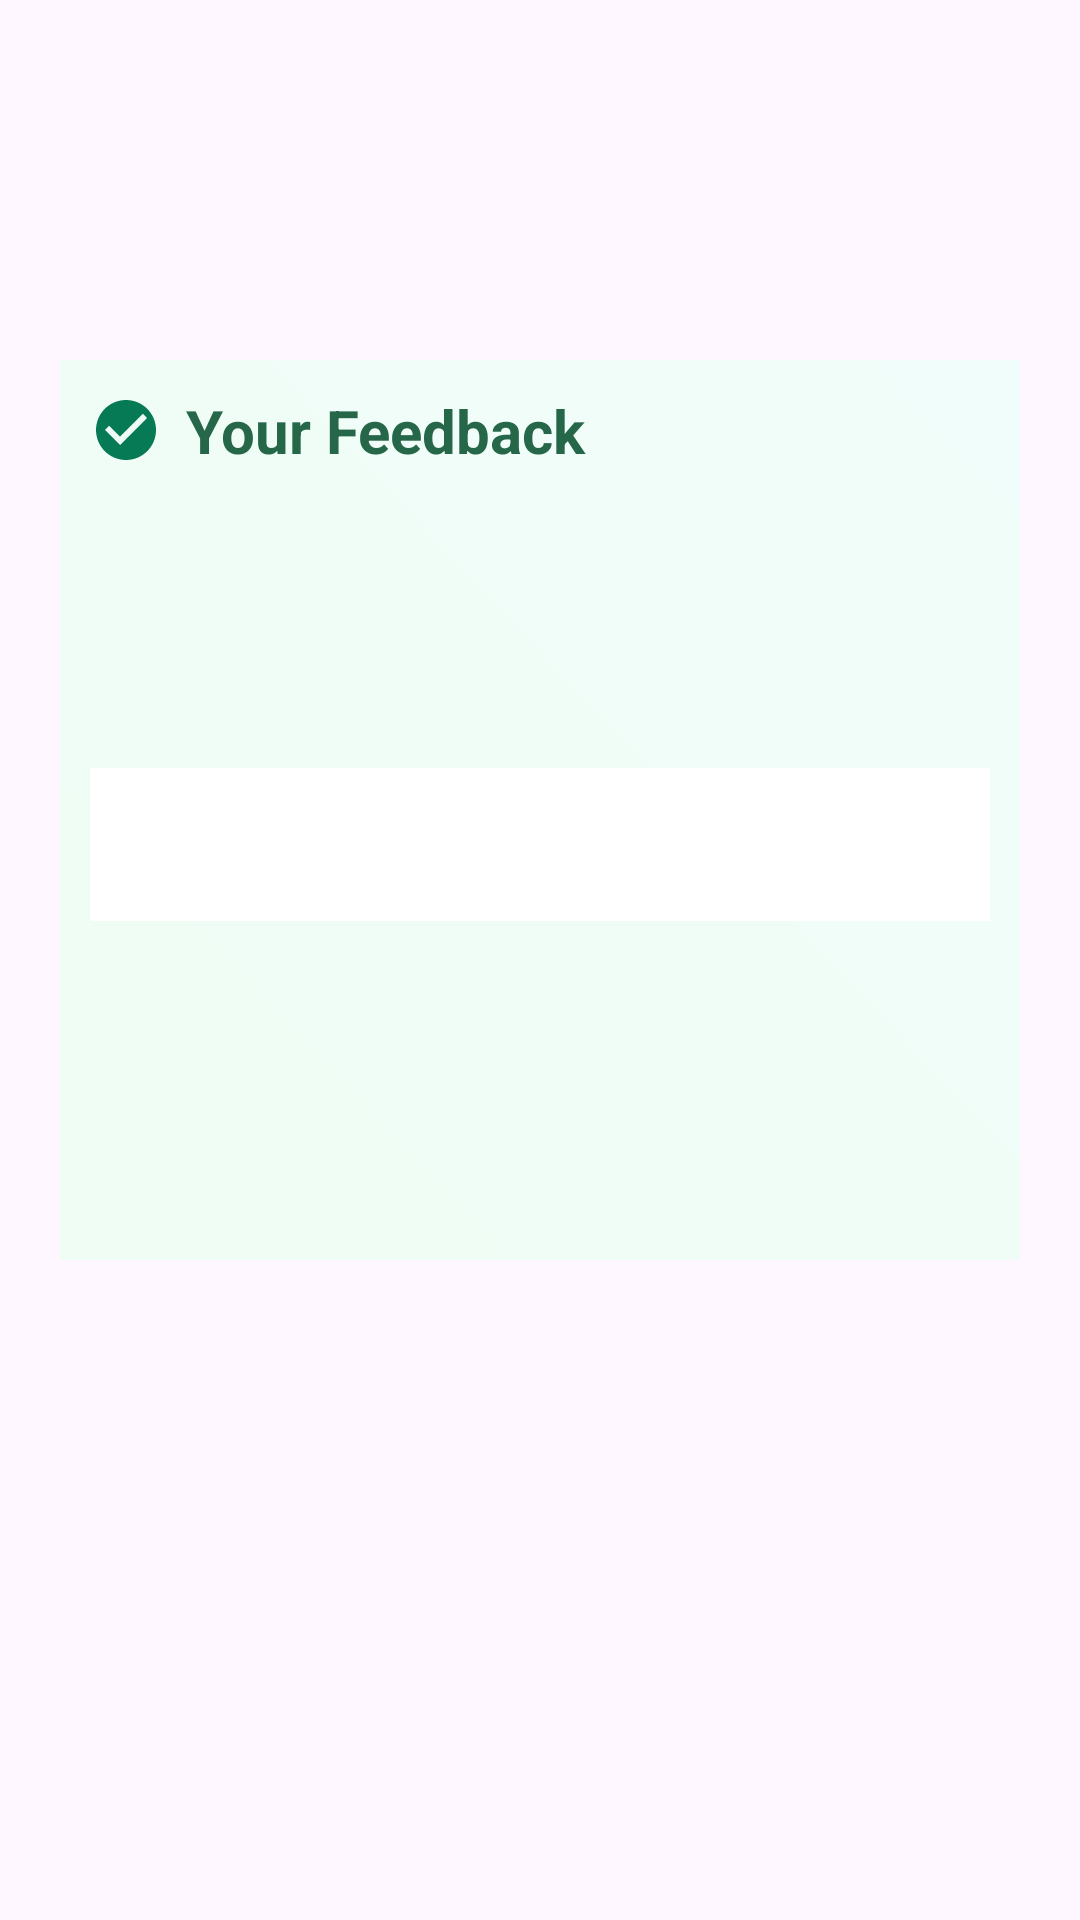

Icons on this 1080px×1920px Android screen, each with the point to tap as [x,y]:
check circle: [126,430]
